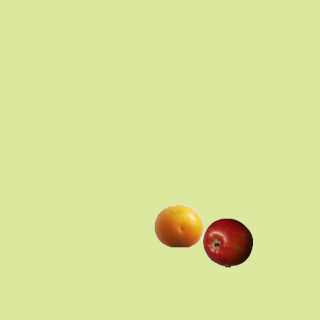Apple Braeburn: (202, 217, 252, 267)
Cherry Wax Yellow: (153, 200, 203, 250)
